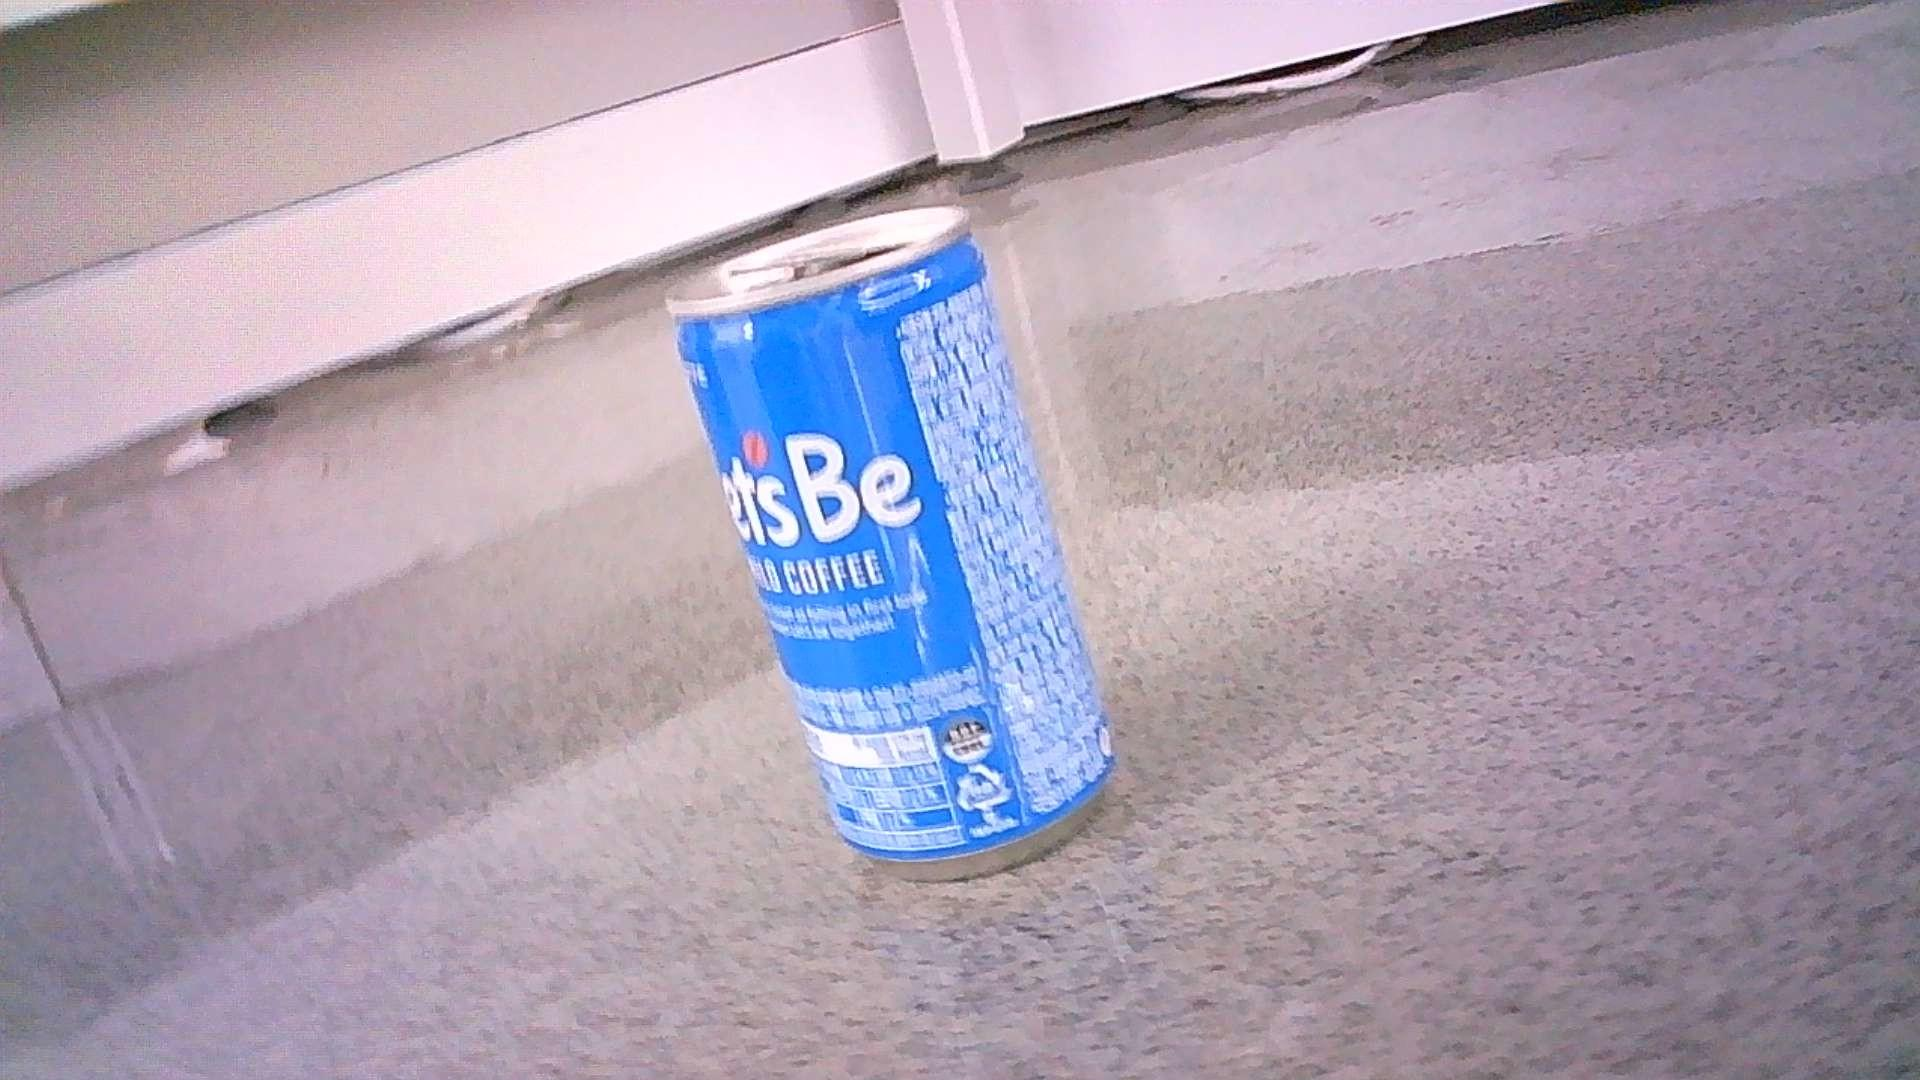letsbe: (663, 206, 1118, 878)
